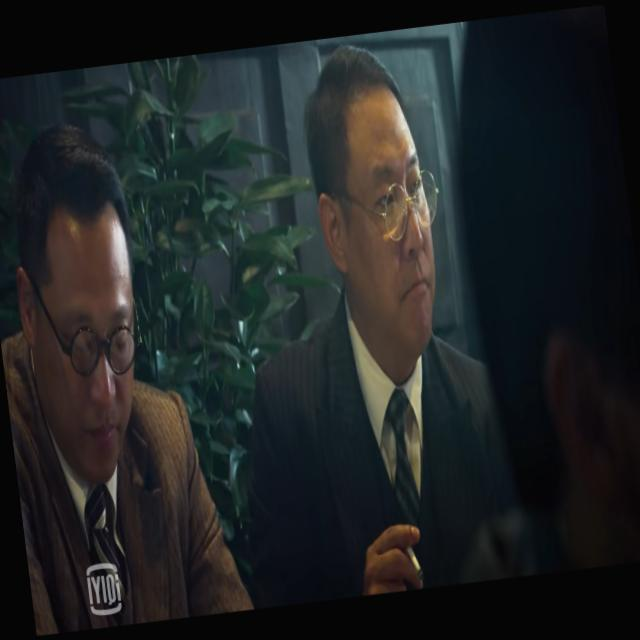smoke: (404, 548, 428, 587)
